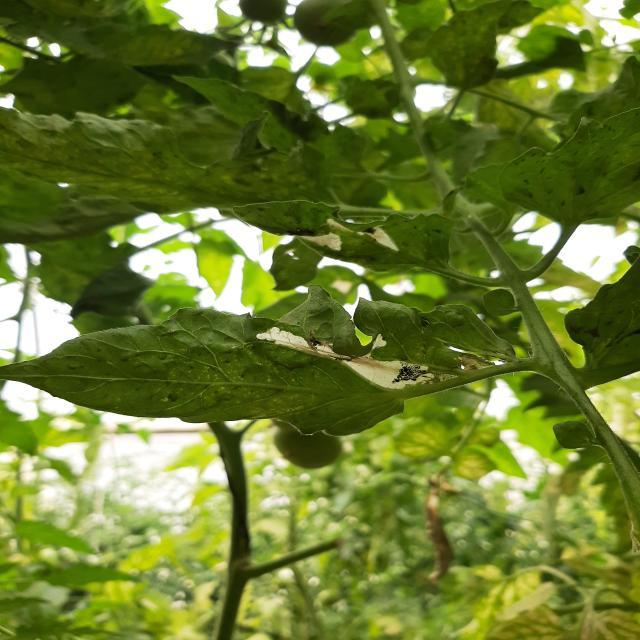Tuta absoluta: (322, 343, 438, 399), (258, 324, 313, 354), (367, 223, 403, 257), (304, 224, 345, 253)
